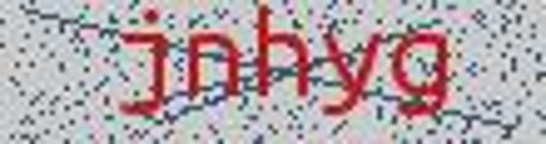g: (388, 28, 454, 123)
h: (251, 1, 315, 103)
j: (111, 7, 175, 129)
n: (180, 24, 248, 106)
y: (316, 21, 383, 119)
